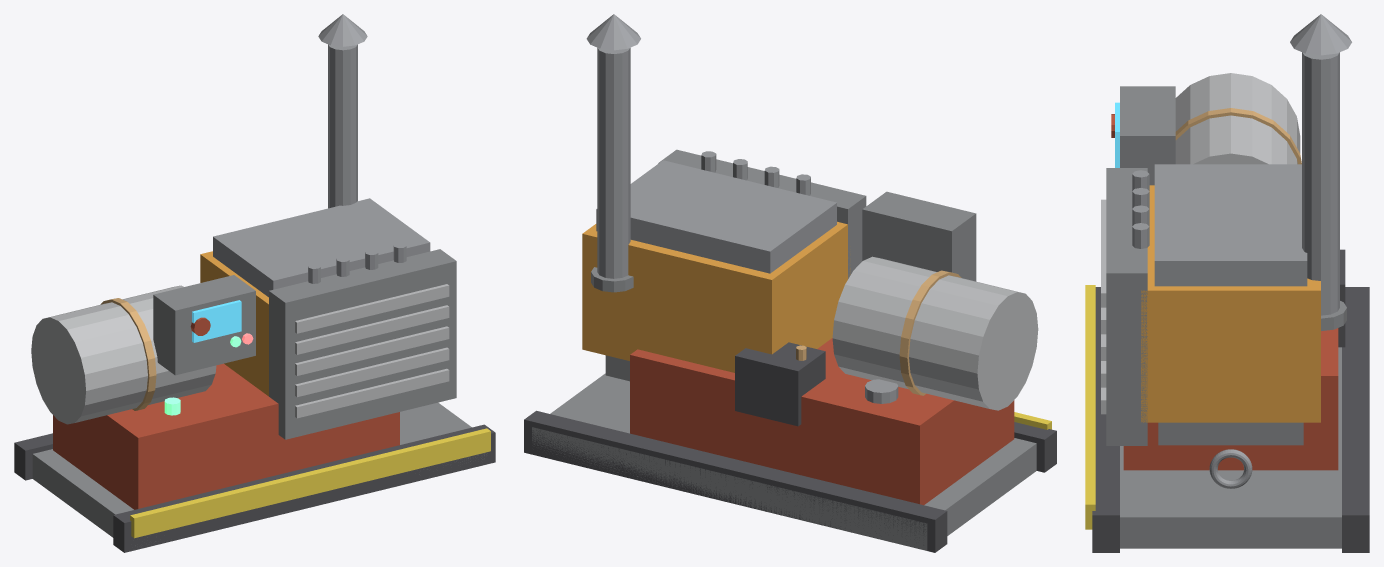
The model's file is machine_generator.glb.
The picture shows the model from 3 angles, left to right: view 1: azimuth 30°, elevation 25°; view 2: azimuth 150°, elevation 25°; view 3: azimuth 270°, elevation 25°; orthographic projection. The views are drawn at different scales.
Parts seen in each view (by area): view 1: GE_fuel_tank, GE_radiator, GE_alternator, GE_head, GE_warn_stripe, GE_rail_-0.36, GE_ctrl_box, GE_skid, GE_exhaust, GE_engine, GE_grille_3, GE_grille_0 (+7 smaller); view 2: GE_fuel_tank, GE_engine, GE_alternator, GE_skid, GE_head, GE_rail_0.36, GE_exhaust, GE_ctrl_box, GE_battery, GE_radiator, GE_alt_ring, GE_rain_cap (+3 smaller); view 3: GE_engine, GE_head, GE_skid, GE_radiator, GE_alternator, GE_exhaust, GE_fuel_tank, GE_rail_0.36, GE_ctrl_box, GE_rail_-0.36, GE_oil_pan, GE_warn_stripe (+7 smaller).
Boxes of the visible parts, bbox=[...] form: GE_fuel_tank: bbox=[53, 363, 399, 509]; GE_radiator: bbox=[269, 249, 456, 439]; GE_alternator: bbox=[31, 285, 216, 424]; GE_head: bbox=[213, 198, 430, 297]; GE_warn_stripe: bbox=[130, 428, 490, 538]; GE_rail_-0.36: bbox=[113, 424, 495, 552]; GE_ctrl_box: bbox=[153, 275, 255, 375]; GE_skid: bbox=[32, 402, 487, 550]; GE_exhaust: bbox=[328, 44, 357, 208]; GE_engine: bbox=[200, 251, 268, 396]; GE_grille_3: bbox=[295, 305, 449, 354]; GE_grille_0: bbox=[295, 368, 449, 418]; GE_fuel_tank: bbox=[630, 338, 1014, 505]; GE_engine: bbox=[582, 221, 850, 372]; GE_alternator: bbox=[832, 256, 1038, 410]; GE_skid: bbox=[532, 373, 1036, 550]; GE_head: bbox=[596, 160, 836, 273]; GE_rail_0.36: bbox=[524, 410, 947, 552]; GE_exhaust: bbox=[597, 47, 630, 278]; GE_ctrl_box: bbox=[862, 191, 976, 281]; GE_battery: bbox=[735, 342, 825, 426]; GE_radiator: bbox=[658, 149, 866, 278]; GE_alt_ring: bbox=[899, 270, 961, 395]; GE_rain_cap: bbox=[586, 14, 640, 50]; GE_engine: bbox=[1141, 185, 1320, 422]; GE_head: bbox=[1154, 164, 1307, 286]; GE_skid: bbox=[1120, 347, 1341, 548]; GE_radiator: bbox=[1106, 168, 1147, 445]; GE_alternator: bbox=[1175, 73, 1300, 164]; GE_exhaust: bbox=[1302, 52, 1339, 315]; GE_fuel_tank: bbox=[1123, 328, 1338, 470]; GE_rail_0.36: bbox=[1342, 287, 1369, 552]; GE_ctrl_box: bbox=[1120, 86, 1175, 185]; GE_rail_-0.36: bbox=[1092, 287, 1119, 552]; GE_oil_pan: bbox=[1158, 422, 1303, 445]; GE_warn_stripe: bbox=[1085, 285, 1095, 529].
Size of the model in its own units: 1.6 by 1.59 by 0.82.
